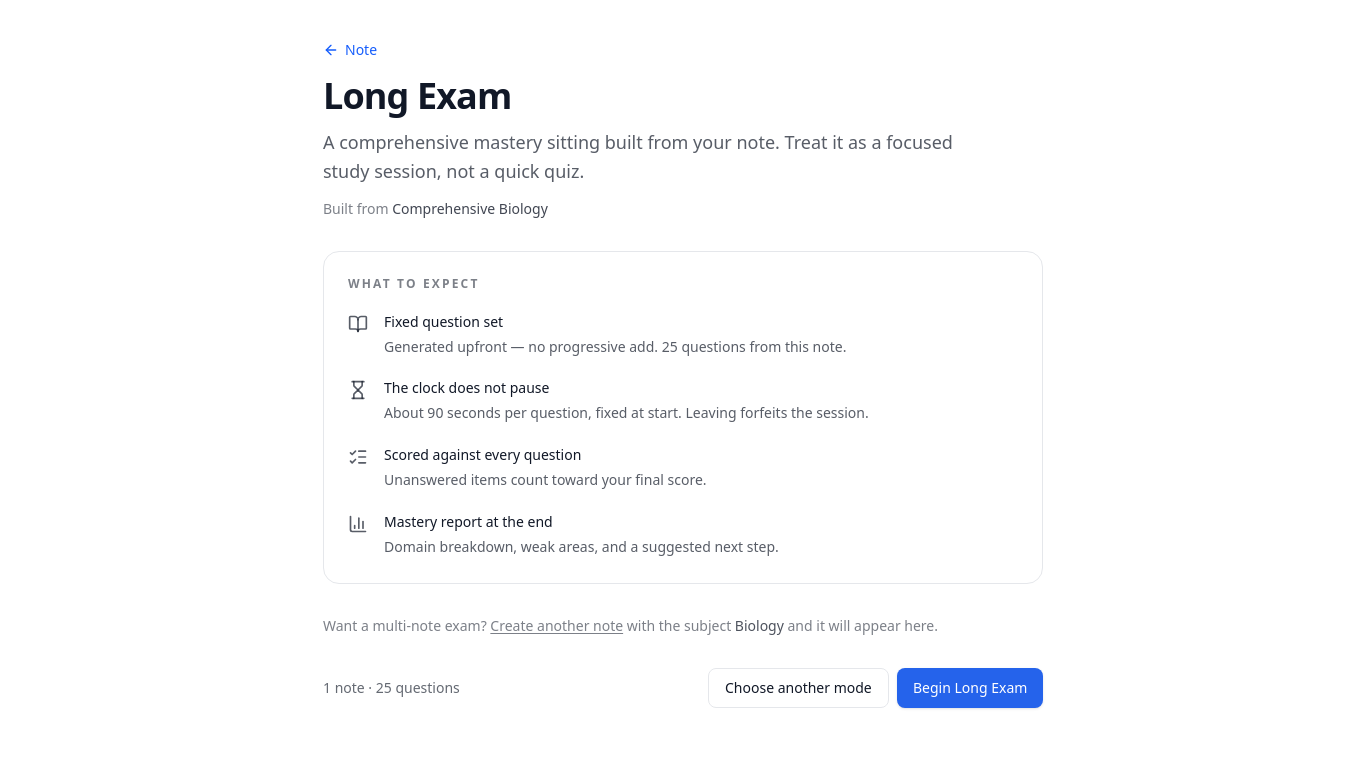
Test: LongExamPage › selects the correct feedback panel on the mastery report
Click the button "Begin Long Exam".
click(970, 688)  # box [897,668,1043,708]
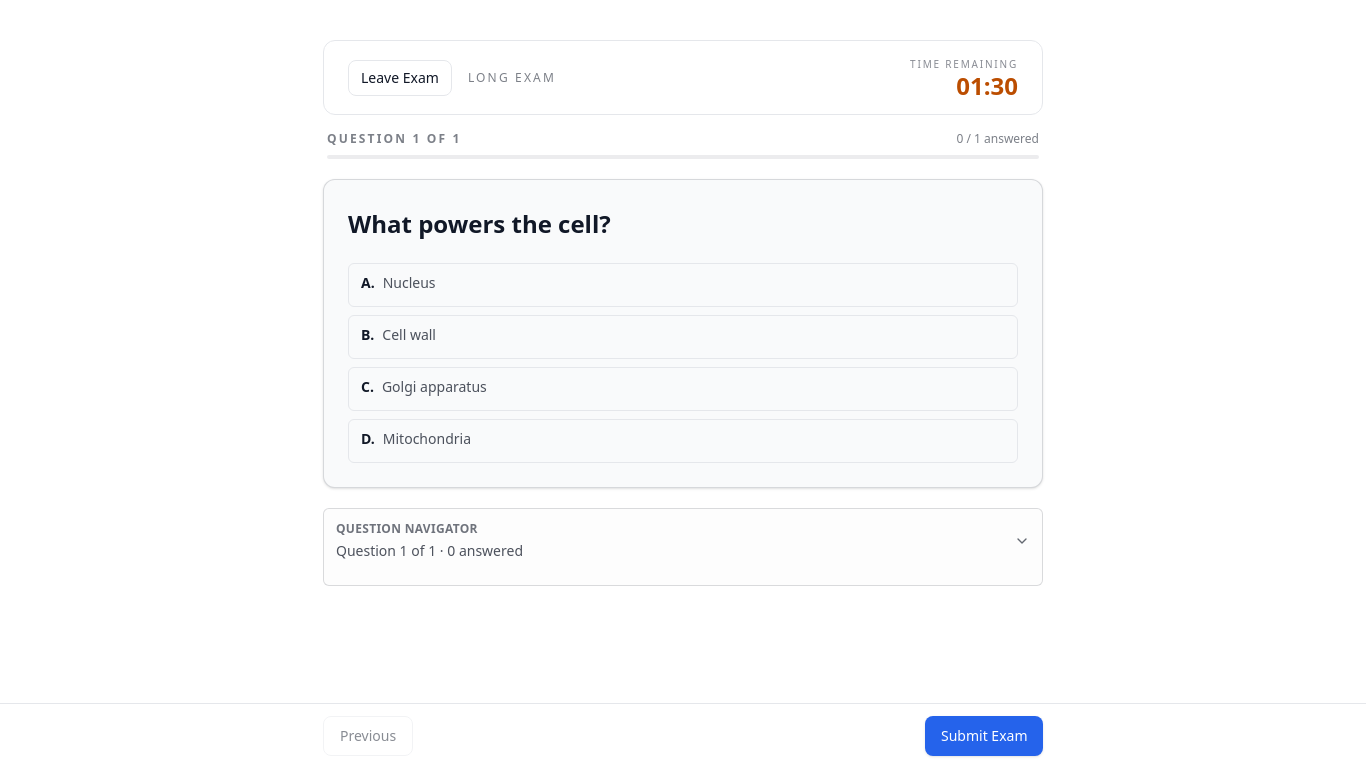
Click the button "D.Mitochondria".
click(427, 438)  # box [348,419,1018,463]
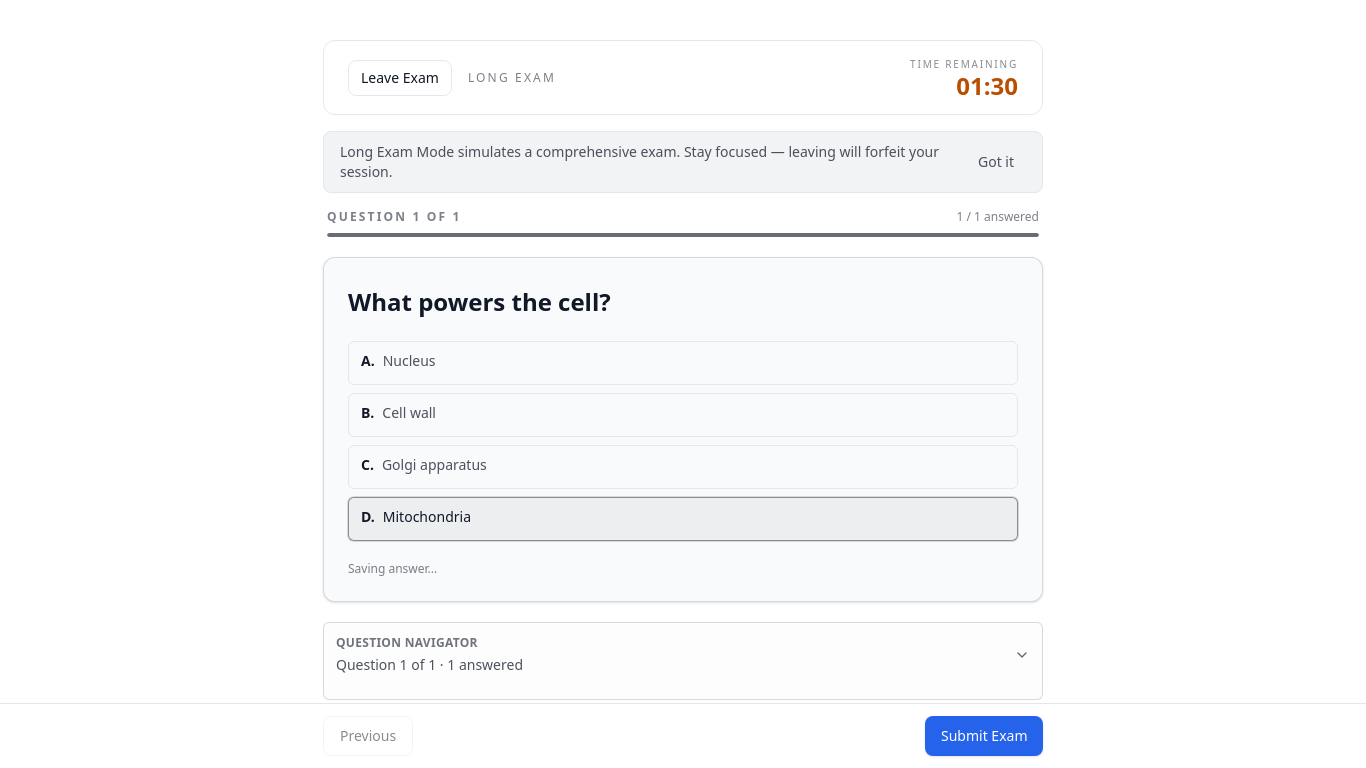
Click the button "Submit Exam".
click(984, 736)  # box [924,716,1043,756]
(page scrolled)
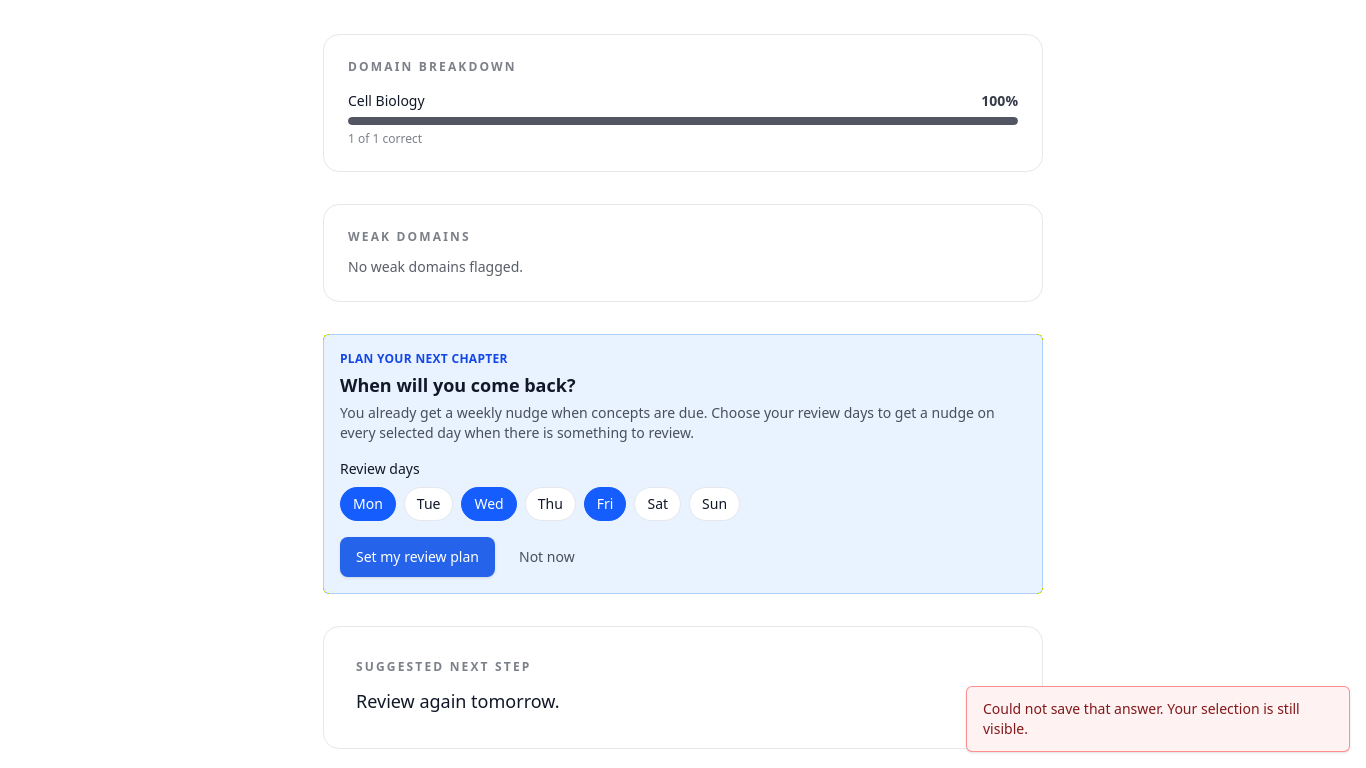
Result: the heading "When will you come back?" is shown at [340,373,576,397]
